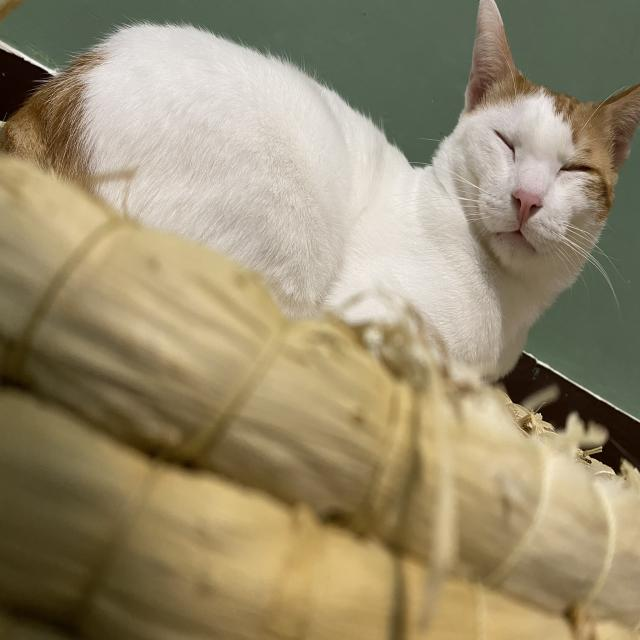cat1: (11, 2, 639, 370)
